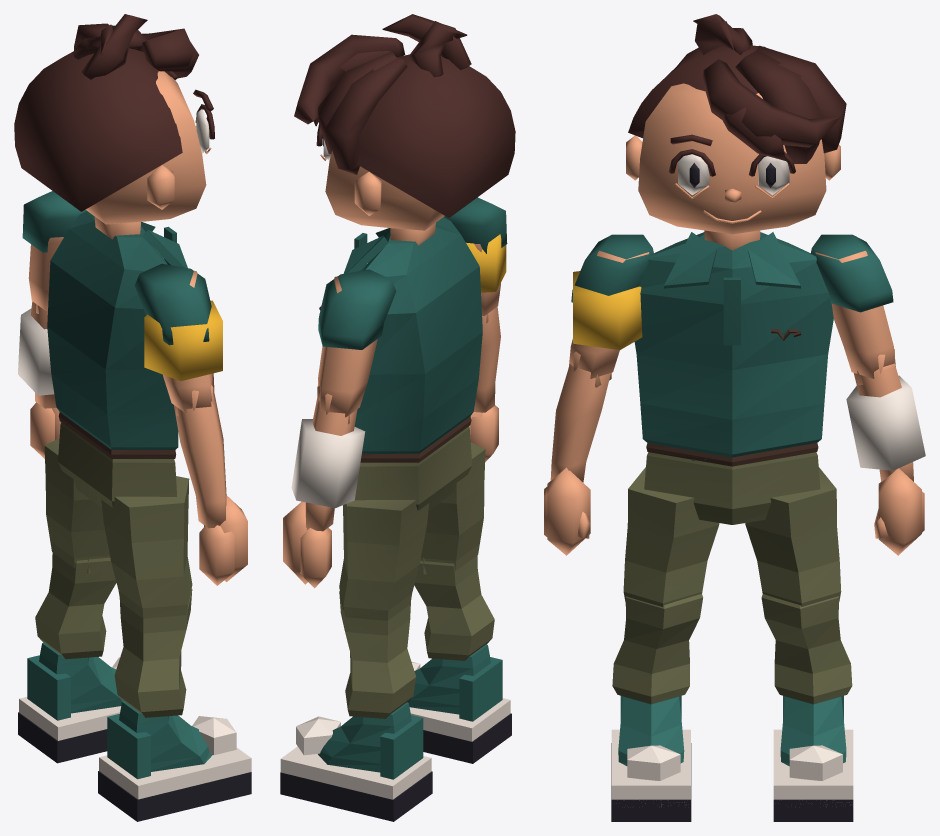
3 views of the same model, side by side, from view 1: azimuth 30°, elevation 25°; view 2: azimuth 150°, elevation 25°; view 3: azimuth 270°, elevation 25° (orthographic). The views are drawn at different scales.
Visible parts, largest first — view 1: head_pal_hairChestnut, torso_pal_backpackTeal, legR_pal_olive, head_pal_skinWarm, shinR_pal_olive, shinL_pal_olive, footR_pal_backpackTeal, hip_pal_olive, footL_pal_backpackTeal, legL_pal_olive, foreArmR_pal_skinWarm, footR_pal_picketWhite (+14 smaller); view 2: head_pal_hairChestnut, torso_pal_backpackTeal, legL_pal_olive, shinL_pal_olive, shinR_pal_olive, head_pal_skinWarm, footL_pal_backpackTeal, hip_pal_olive, footR_pal_backpackTeal, foreArmL_pal_picketWhite, armL_pal_backpackTeal, legR_pal_olive (+12 smaller); view 3: torso_pal_backpackTeal, head_pal_skinWarm, head_pal_hairChestnut, legL_pal_olive, legR_pal_olive, hip_pal_olive, shinL_pal_olive, shinR_pal_olive, foreArmL_pal_picketWhite, foreArmR_pal_skinWarm, footL_pal_picketWhite, armL_pal_backpackTeal (+14 smaller).
Part boxes in pixels (bbox=[...]): head_pal_hairChestnut: bbox=[14, 14, 214, 211]; torso_pal_backpackTeal: bbox=[47, 210, 187, 449]; legR_pal_olive: bbox=[101, 476, 192, 618]; head_pal_skinWarm: bbox=[85, 71, 211, 239]; shinR_pal_olive: bbox=[114, 589, 192, 717]; shinL_pal_olive: bbox=[35, 553, 116, 659]; footR_pal_backpackTeal: bbox=[107, 701, 212, 779]; hip_pal_olive: bbox=[58, 422, 176, 507]; footL_pal_backpackTeal: bbox=[27, 642, 122, 720]; legL_pal_olive: bbox=[44, 438, 110, 568]; foreArmR_pal_skinWarm: bbox=[174, 385, 226, 528]; footR_pal_picketWhite: bbox=[99, 716, 251, 799]; head_pal_hairChestnut: bbox=[294, 14, 515, 217]; torso_pal_backpackTeal: bbox=[343, 217, 482, 453]; legL_pal_olive: bbox=[339, 500, 429, 620]; shinL_pal_olive: bbox=[339, 591, 416, 718]; shinR_pal_olive: bbox=[414, 555, 494, 660]; head_pal_skinWarm: bbox=[320, 150, 444, 245]; footL_pal_backpackTeal: bbox=[318, 702, 423, 779]; hip_pal_olive: bbox=[355, 426, 472, 510]; footR_pal_backpackTeal: bbox=[407, 644, 502, 721]; foreArmL_pal_picketWhite: bbox=[291, 419, 365, 508]; armL_pal_backpackTeal: bbox=[318, 269, 396, 349]; legR_pal_olive: bbox=[420, 442, 485, 570]; torso_pal_backpackTeal: bbox=[634, 232, 833, 457]; head_pal_skinWarm: bbox=[626, 83, 840, 250]; head_pal_hairChestnut: bbox=[628, 14, 846, 176]; legL_pal_olive: bbox=[745, 467, 841, 606]; legR_pal_olive: bbox=[623, 467, 719, 606]; hip_pal_olive: bbox=[644, 452, 820, 524]; shinL_pal_olive: bbox=[761, 594, 852, 703]; shinR_pal_olive: bbox=[612, 594, 703, 703]; foreArmL_pal_picketWhite: bbox=[846, 375, 925, 470]; foreArmR_pal_skinWarm: bbox=[550, 351, 611, 482]; footL_pal_picketWhite: bbox=[773, 729, 853, 802]; armL_pal_backpackTeal: bbox=[810, 234, 893, 312].
Size of the model in its own units: 0.4103 by 1.81 by 0.8164.
